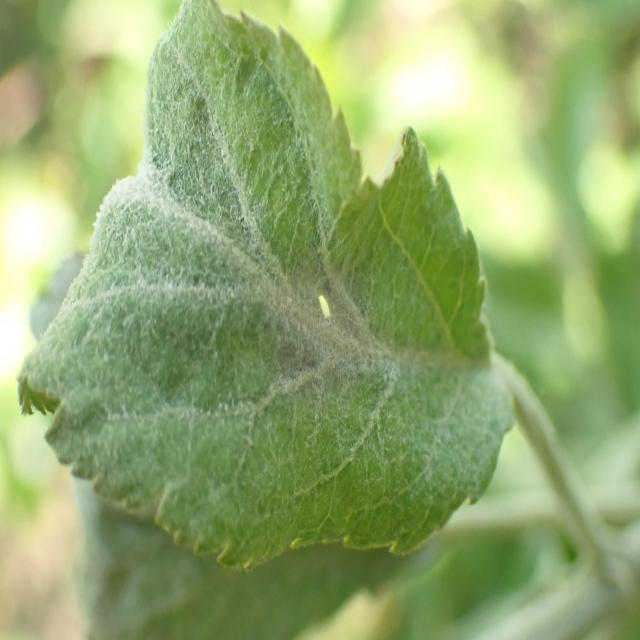Powdery_mildew: (15, 1, 538, 581)
